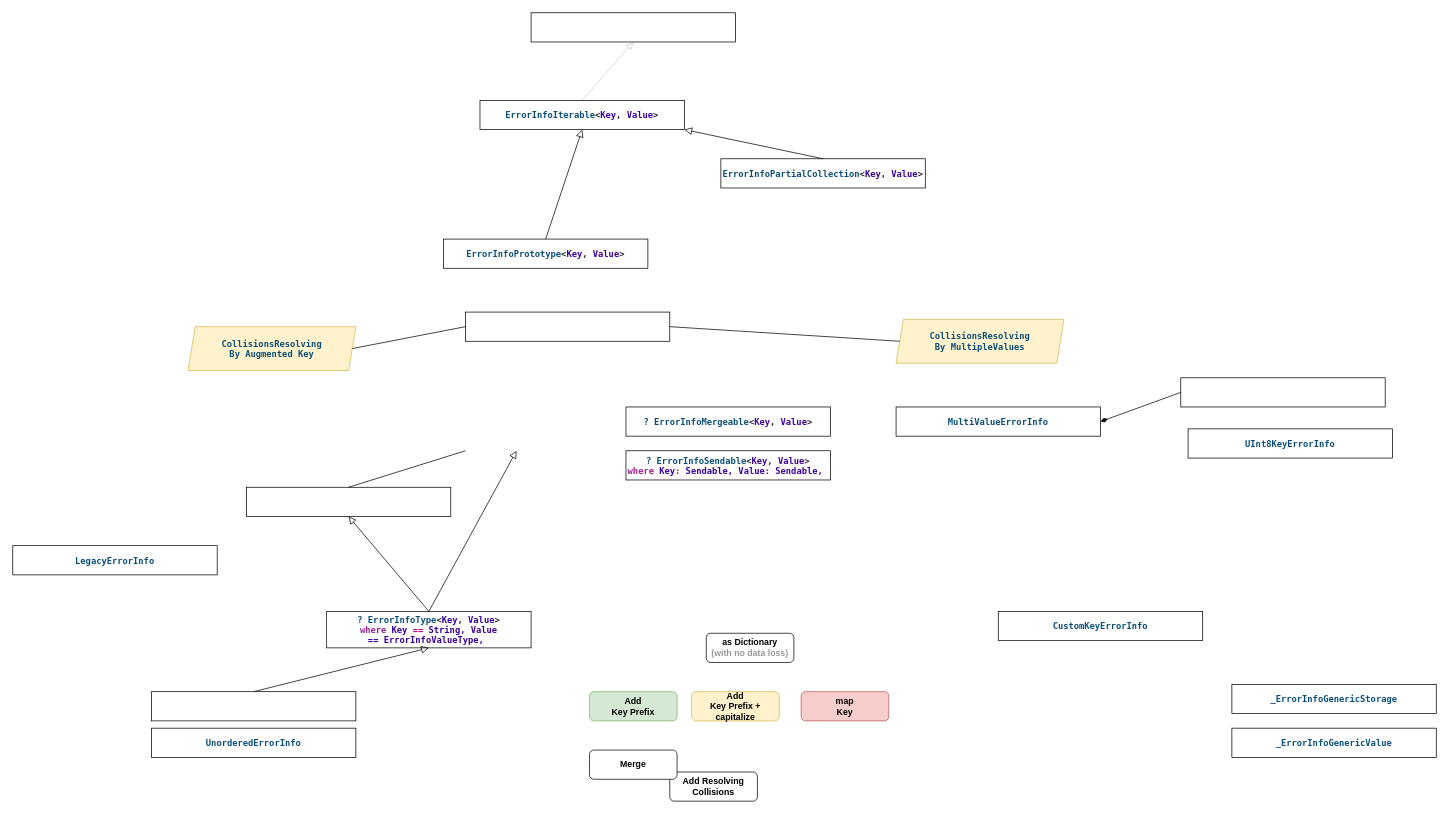
This 1449x814 diagram has some shape labels left out. Each missing label, with the centre of its shape:
ErrorInfo: pixel 253 706
ErrorInfoCollisionsResolvable < Key , Value >: pixel 567 326
Extension where Key == String: pixel 348 501
Sequence: pixel 632 27
StaticStringKeyErrorInfo: pixel 1282 392
